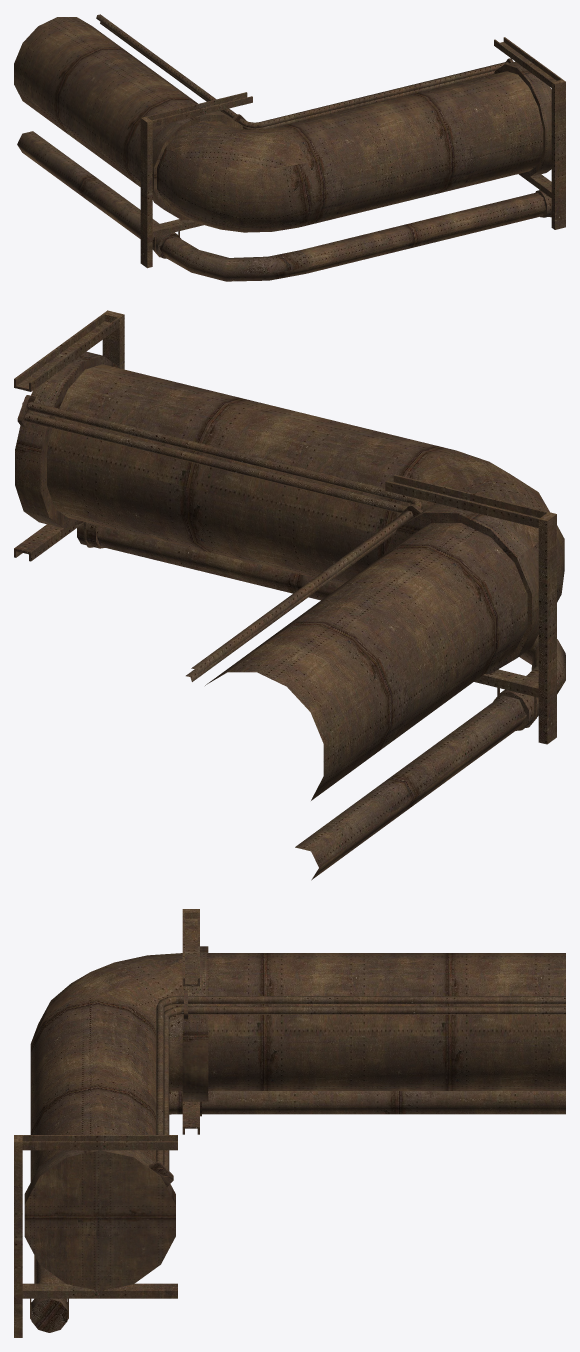
The model's file is pipeset32d_corner128r_001a.glb.
3 views of the same model, one above another, from view 1: azimuth 30°, elevation 25°; view 2: azimuth 150°, elevation 25°; view 3: azimuth 270°, elevation 25° (orthographic). The views are drawn at different scales.
Visible parts, largest first — view 1: 0_pipeset_metal; view 2: 0_pipeset_metal; view 3: 0_pipeset_metal.
Part boxes in pixels (<box>): 0_pipeset_metal: <box>14,14,565,281</box>; 0_pipeset_metal: <box>14,310,565,880</box>; 0_pipeset_metal: <box>14,909,565,1337</box>.
Bounding box in the file's own units: 3.25 × 1.27 × 3.25.
1 material, 1 textured.
